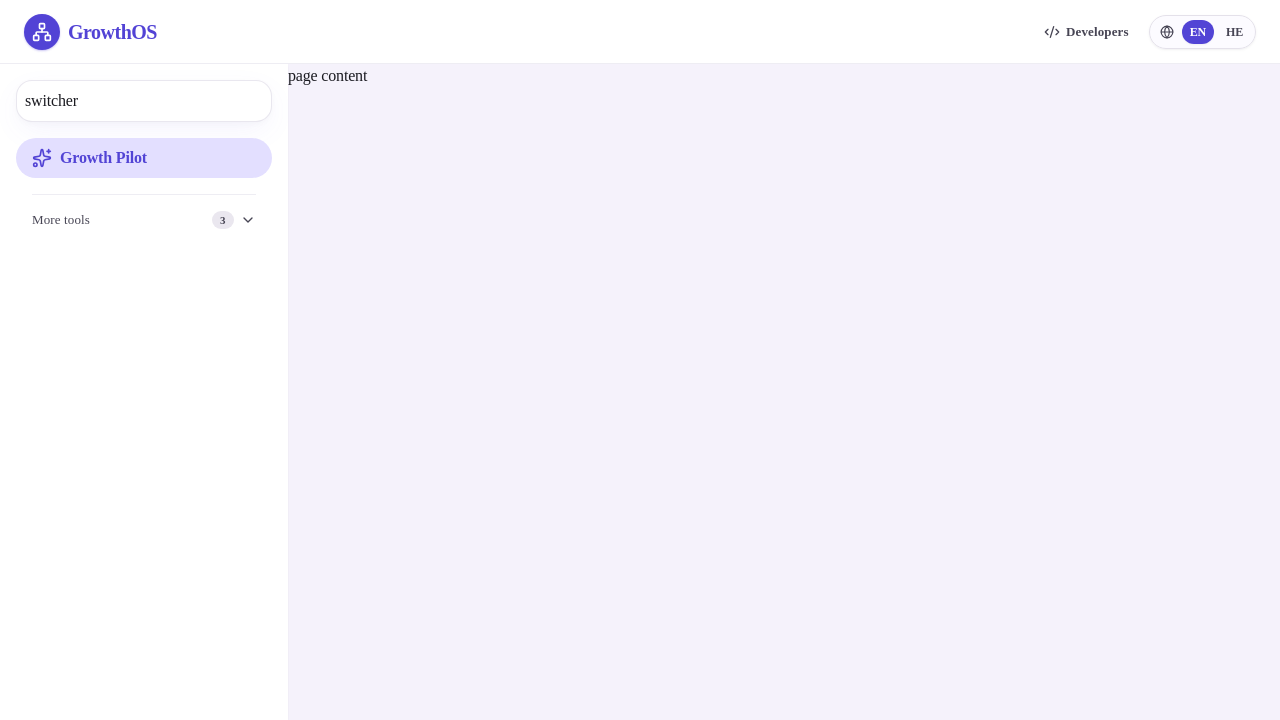
Scenario: AppShell folded nav group › shows the essentials and folds the rest under one closed toggle that says how many it holds
The width and height of the screenshot is (1280, 720).
Expected: the link "Access keys" is not shown
Expected: the link "Growth Pilot" is shown, left=16, top=138, right=272, bottom=178
Click the button "More tools 3" at x=144, y=220, box left=16, top=203, right=272, bottom=237
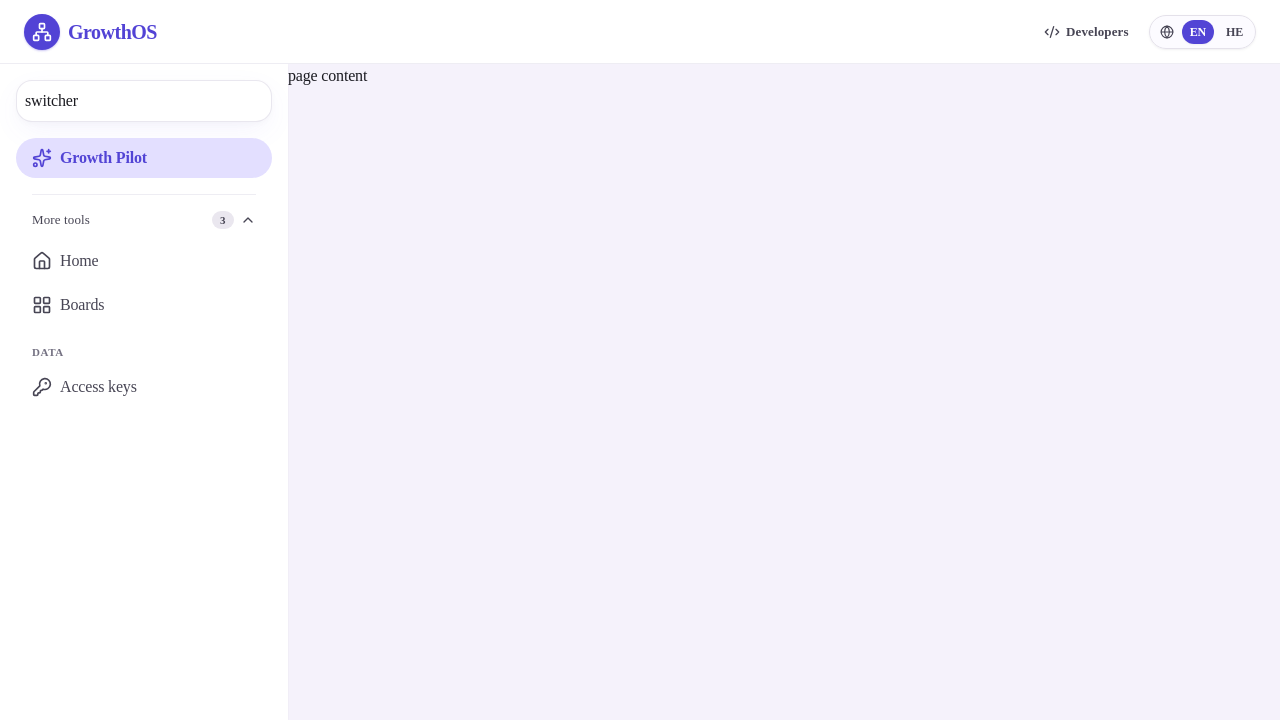
Expected: the button "More tools 3" is expanded, left=16, top=203, right=272, bottom=237
Expected: the link "Access keys" is shown, left=32, top=377, right=137, bottom=397
Expected: the text "Data" is shown, left=32, top=346, right=64, bottom=358
